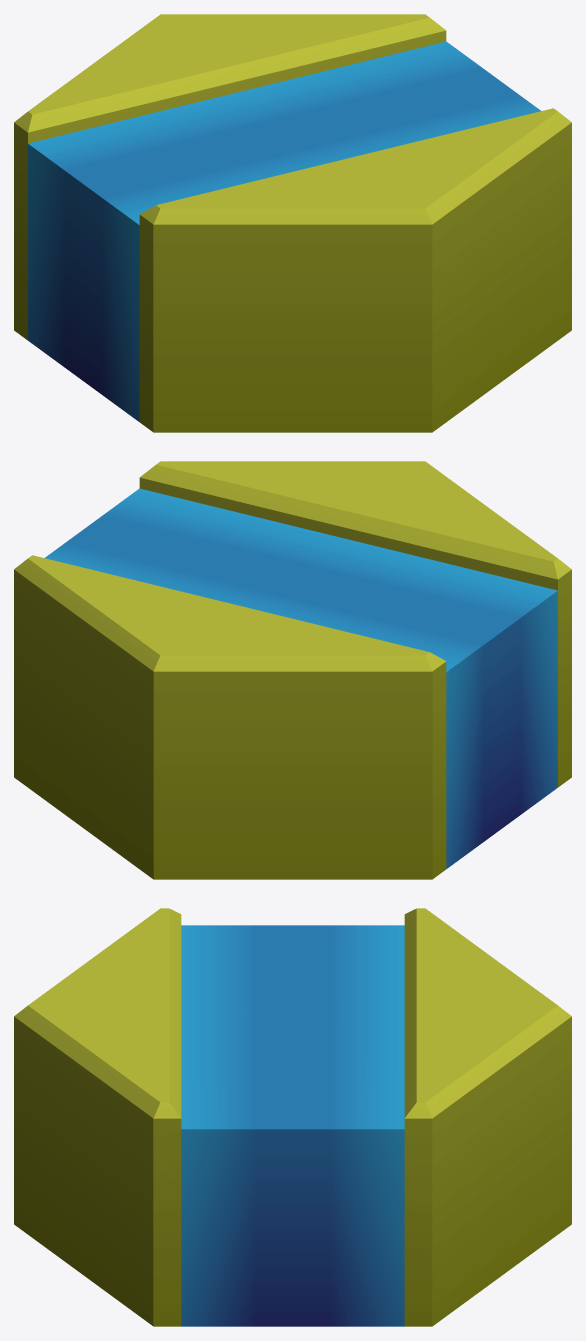
The model's file is kaykit-medieval-hexagon-pack-hex-river-a.glb.
3 renders of one model, top to bottom at view 1: azimuth 30°, elevation 25°; view 2: azimuth 150°, elevation 25°; view 3: azimuth 270°, elevation 25°, orthographic.
Visible parts, largest first — view 1: hex_river_A; view 2: hex_river_A; view 3: hex_river_A.
Boxes of the visible parts, x1,y1,x2,y2 form: hex_river_A: (14,14,571,432); hex_river_A: (14,461,571,879); hex_river_A: (14,908,571,1326).
Size of the model in its own units: 2 by 1 by 2.31.
1 material, 1 textured.
